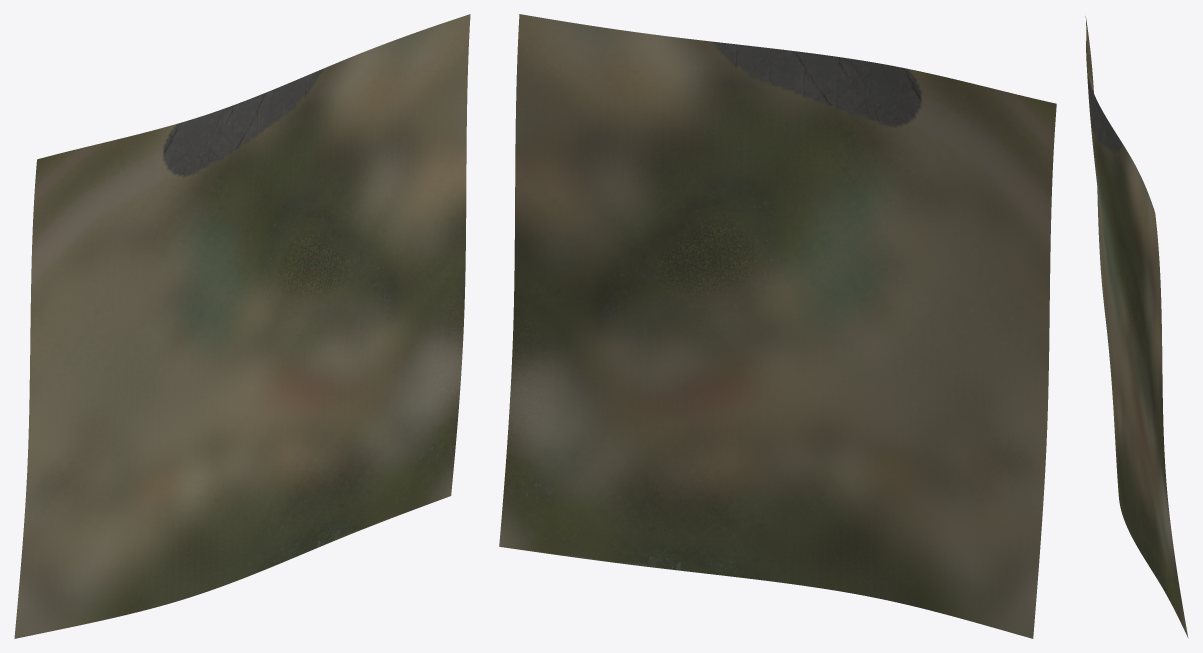
The model's file is ground_core_01_00.obj.
3 views of the same model, side by side, from view 1: azimuth 30°, elevation 25°; view 2: azimuth 150°, elevation 25°; view 3: azimuth 270°, elevation 25° (orthographic). The views are drawn at different scales.
Visible parts, largest first — view 1: ground_core_01_00; view 2: ground_core_01_00; view 3: ground_core_01_00.
Part boxes in pixels (bbox=[...]): ground_core_01_00: bbox=[14, 14, 470, 638]; ground_core_01_00: bbox=[499, 14, 1056, 638]; ground_core_01_00: bbox=[1085, 16, 1188, 637].
Bounding box in the file's own units: 50 × 50 × 10.95.
Materials: 1 (1 with a texture image).
